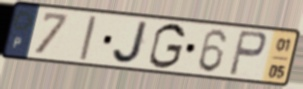6: (196, 26, 229, 75)
7: (32, 11, 71, 58)
G: (147, 21, 188, 71)
I: (77, 14, 99, 62)
J: (111, 19, 152, 65)
P: (227, 28, 269, 79)
